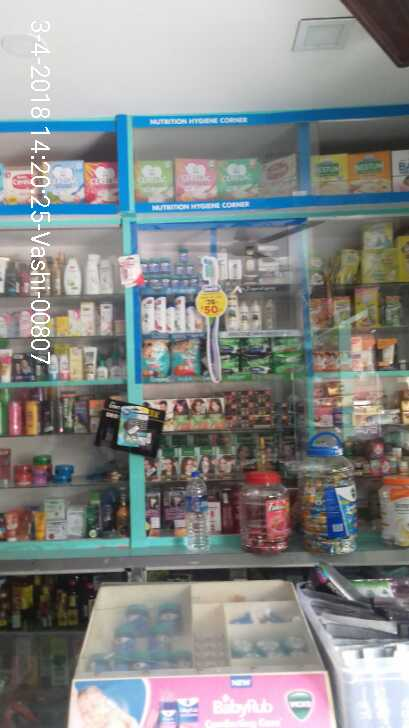vicks: (161, 255, 173, 272), (149, 256, 160, 271), (180, 248, 189, 261), (175, 263, 184, 275), (153, 275, 162, 287), (170, 275, 179, 287), (145, 275, 151, 289), (187, 263, 193, 276)
